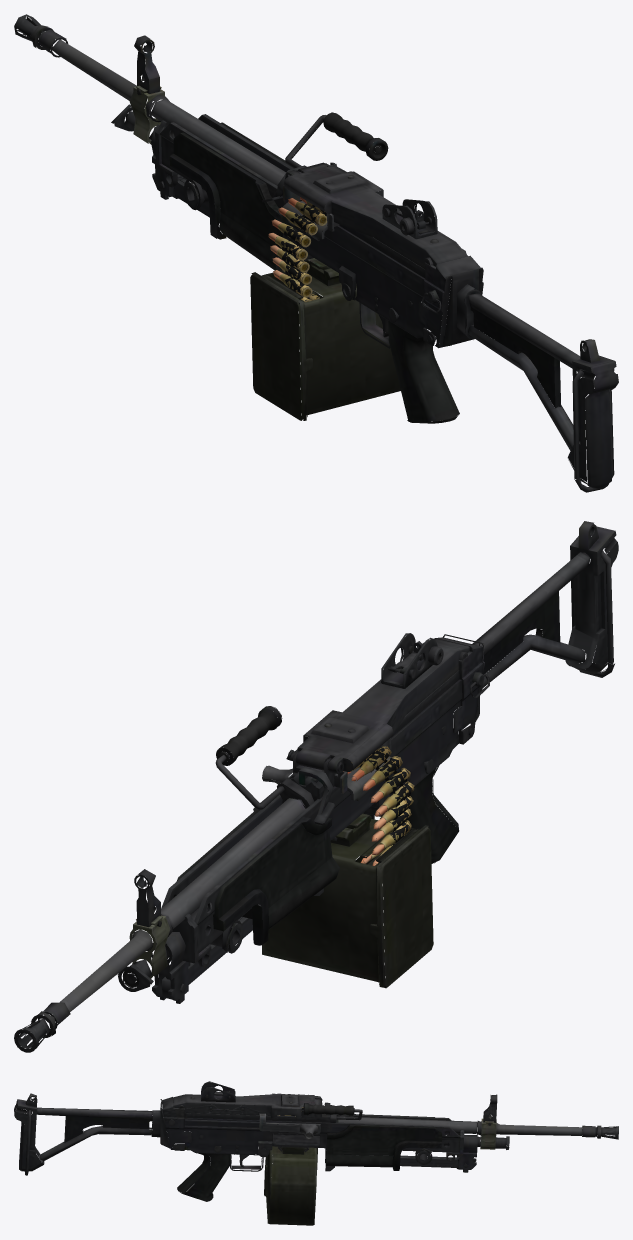
3 renders of one model, top to bottom at view 1: azimuth 30°, elevation 25°; view 2: azimuth 150°, elevation 25°; view 3: azimuth 270°, elevation 25°, orthographic. The views are drawn at different scales.
Parts seen in each view (by area): view 1: base_minimi_0, mag_minimi_0, cover_minimi_0, handle_minimi_0; view 2: base_minimi_0, mag_minimi_0, cover_minimi_0, handle_minimi_0; view 3: base_minimi_0, mag_minimi_0, cover_minimi_0, loader_minimi_0, handle_minimi_0, loaderlid_minimi_0, ejector_minimi_0.
Boxes of the visible parts, x1,y1,x2,y2 form: base_minimi_0: (14,14,618,492); mag_minimi_0: (250,258,400,420); cover_minimi_0: (284,162,467,268); handle_minimi_0: (285,112,388,168); base_minimi_0: (14,521,618,1052); mag_minimi_0: (262,813,433,988); cover_minimi_0: (288,633,469,773); handle_minimi_0: (215,706,284,809); base_minimi_0: (14,1093,618,1201); mag_minimi_0: (264,1146,317,1225); cover_minimi_0: (173,1081,322,1119); loader_minimi_0: (259,1113,320,1139); handle_minimi_0: (303,1103,362,1120); loaderlid_minimi_0: (185,1104,259,1115); ejector_minimi_0: (272,1133,319,1145).
Bounding box in the file's own units: 0.1342 × 0.2491 × 1.04.
Materials: 1 (1 with a texture image).
